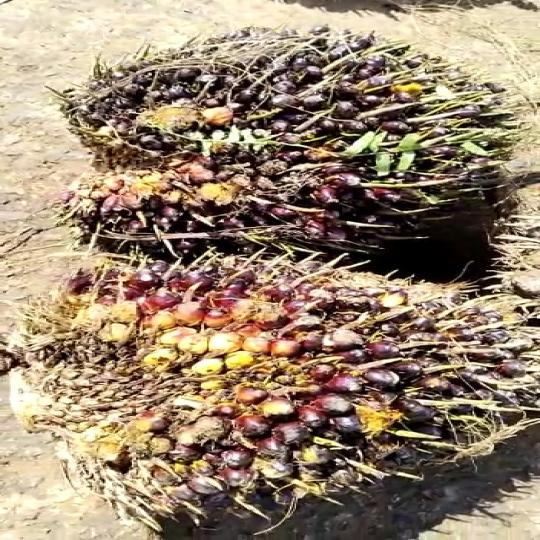kurang masak: (0, 255, 540, 522), (38, 23, 520, 251)
